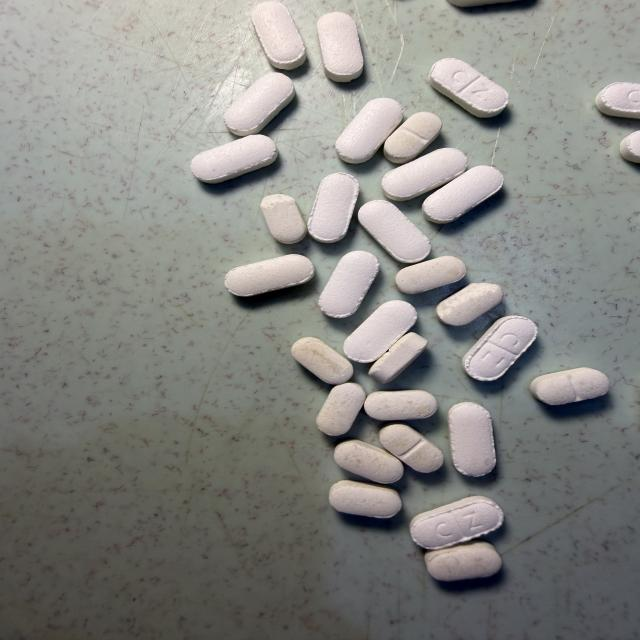pill: (410, 496, 503, 549), (463, 316, 537, 381), (429, 58, 508, 117), (423, 166, 503, 223), (359, 200, 430, 263), (224, 73, 295, 136), (344, 301, 417, 362), (382, 148, 467, 200), (336, 98, 403, 163), (191, 135, 277, 183), (319, 251, 379, 318), (225, 254, 314, 296), (252, 2, 306, 69), (448, 402, 496, 477), (308, 173, 359, 243), (317, 12, 363, 82), (425, 541, 501, 581), (380, 424, 443, 472), (334, 440, 403, 483), (384, 112, 441, 163), (369, 333, 427, 383), (531, 368, 609, 405), (292, 337, 353, 384), (437, 283, 503, 326), (329, 481, 401, 518), (316, 383, 365, 436), (396, 256, 466, 293), (261, 194, 306, 243), (364, 390, 437, 420), (596, 82, 639, 118), (621, 131, 639, 162), (449, 0, 514, 7)
